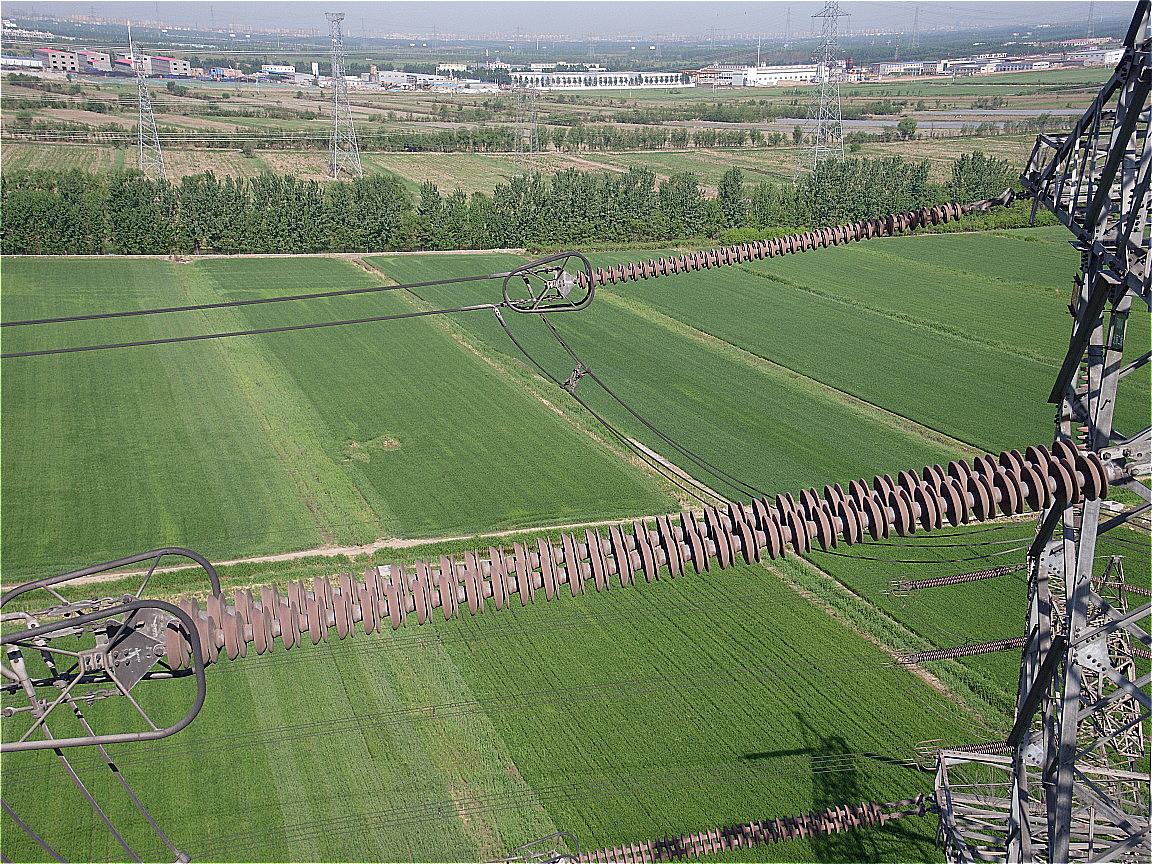insultor1: (579, 199, 968, 294)
insultor2: (164, 435, 1110, 670)
